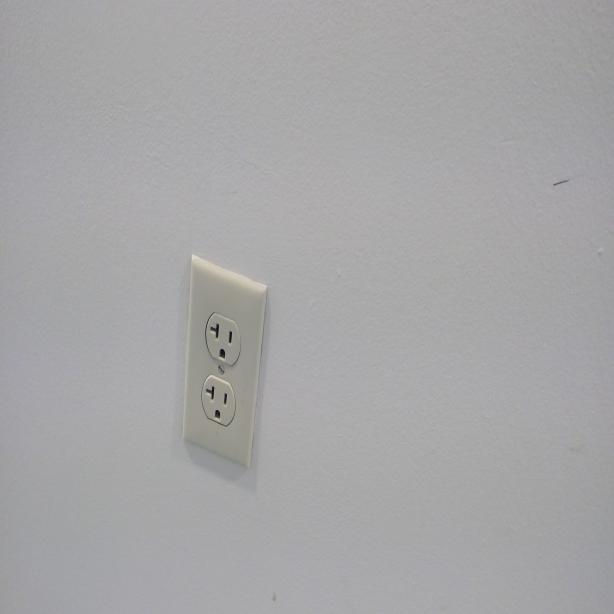typeb: (204, 309, 238, 364), (199, 378, 233, 425)
